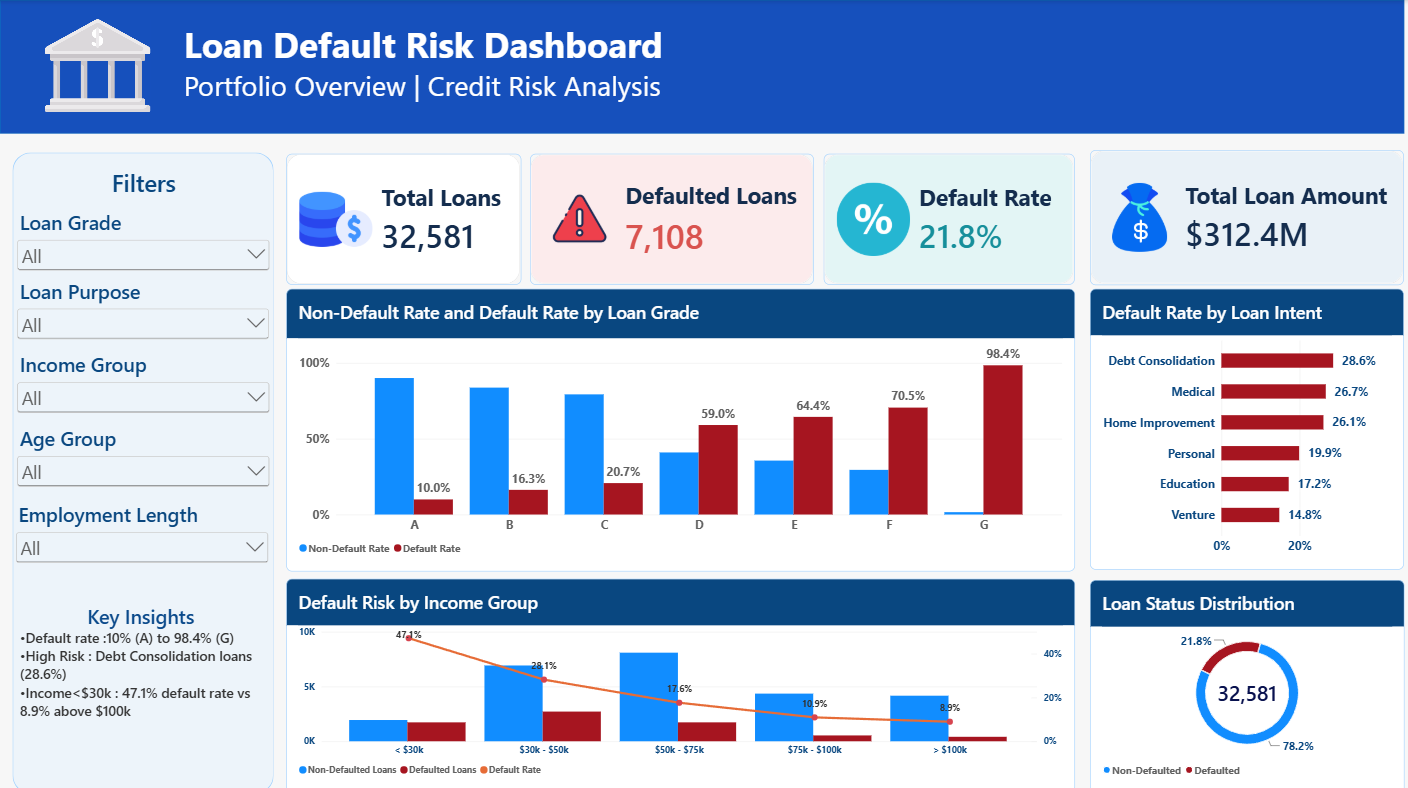

What the dashboard file says about the page in this screenshot:
{"tool":"powerbi","page":{"name":"Page 1","canvas":[1920,1080],"ordinal":0},"visuals":[{"type":"shape","box":[17,207.6,355.6,872.8],"z":0},{"type":"shape","box":[0,0,1911.4,181.8],"z":1000},{"type":"cardVisual","fields":{"Data":["credit_risk_dataset.Total Loans"]},"box":[389.6,209.3,319.9,178.6],"z":2000},{"type":"cardVisual","fields":{"Data":["credit_risk_dataset.Total Loan Amount"]},"box":[1483.6,204.2,427,183.7],"z":3000},{"type":"cardVisual","fields":{"Data":["credit_risk_dataset.Default Rate"]},"box":[1121.2,209.3,342,178.6],"z":4000},{"type":"cardVisual","fields":{"Data":["credit_risk_dataset.Defaulted Loans"]},"box":[721.4,209.3,386.2,178.6],"z":5000},{"type":"textbox","box":[250,27.3,763.6,154.5],"z":6000},{"type":"actionButton","box":[61.4,22.7,143.2,134.1],"z":7000},{"type":"clusteredColumnChart","title":"Non-Default Rate and Default Rate by Loan Grade","fields":{"Category":["credit_risk_dataset.loan_grade"],"Y":["credit_risk_dataset.Non-Default Rate","credit_risk_dataset.Default Rate"]},"box":[389.8,392.4,1073.2,384.4],"z":8000},{"type":"clusteredBarChart","title":"Default Rate by Loan Intent","fields":{"Category":["credit_risk_dataset.loan_intent"],"Y":["credit_risk_dataset.Default Rate"]},"box":[1483.6,393,427,382.8],"z":9000},{"type":"donutChart","title":"Loan Status Distribution","fields":{"Category":["credit_risk_dataset.Loan Status Label"],"Y":["credit_risk_dataset.Total Loans"]},"box":[1484.3,790.2,428,290],"z":10000},{"type":"lineClusteredColumnComboChart","title":"Default Risk by Income  Group","fields":{"Category":["credit_risk_dataset.Income Group Sort"],"Y":["credit_risk_dataset.Non-Defaulted Loans","credit_risk_dataset.Defaulted Loans"],"Y2":["credit_risk_dataset.Default Rate"]},"box":[389.6,787.7,1073.2,291],"z":11000},{"type":"slicer","fields":{"Values":["credit_risk_dataset.loan_grade"]},"box":[18.7,284.1,352.8,93.1],"z":12000},{"type":"slicer","fields":{"Values":["credit_risk_dataset.loan_intent"]},"box":[18.7,377.7,352.4,101.4],"z":13000},{"type":"slicer","fields":{"Values":["credit_risk_dataset.Income Group"]},"box":[18.7,478.1,352.8,99.6],"z":14000},{"type":"slicer","fields":{"Values":["credit_risk_dataset.Age Group"]},"box":[18.7,578.5,352.8,103.9],"z":15000},{"type":"slicer","fields":{"Values":["credit_risk_dataset.person_emp_length"]},"box":[17,682.2,352.8,108.2],"z":16000},{"type":"textbox","box":[124.2,226.3,142.9,44.2],"z":17000},{"type":"textbox","box":[17,820,353.9,212.7],"z":18000}]}

Visuals, with their boxes in screenshot pixels (x1, y1, x2, y2), scaled from the page's 1920x1080 canvas onto the 1408x788 screenshot:
shape: bbox=[12, 151, 273, 787]
shape: bbox=[0, 0, 1402, 133]
cardVisual - credit_risk_dataset.Total Loans: bbox=[286, 153, 520, 283]
cardVisual - credit_risk_dataset.Total Loan Amount: bbox=[1088, 149, 1401, 283]
cardVisual - credit_risk_dataset.Default Rate: bbox=[822, 153, 1073, 283]
cardVisual - credit_risk_dataset.Defaulted Loans: bbox=[529, 153, 812, 283]
textbox: bbox=[183, 20, 743, 133]
actionButton: bbox=[45, 17, 150, 114]
"Non-Default Rate and Default Rate by Loan Grade" clusteredColumnChart: bbox=[286, 286, 1073, 567]
"Default Rate by Loan Intent" clusteredBarChart: bbox=[1088, 287, 1401, 566]
"Loan Status Distribution" donutChart: bbox=[1088, 577, 1402, 787]
"Default Risk by Income  Group" lineClusteredColumnComboChart: bbox=[286, 575, 1073, 787]
slicer - credit_risk_dataset.loan_grade: bbox=[14, 207, 272, 275]
slicer - credit_risk_dataset.loan_intent: bbox=[14, 276, 272, 350]
slicer - credit_risk_dataset.Income Group: bbox=[14, 349, 272, 422]
slicer - credit_risk_dataset.Age Group: bbox=[14, 422, 272, 498]
slicer - credit_risk_dataset.person_emp_length: bbox=[12, 498, 271, 577]
textbox: bbox=[91, 165, 196, 197]
textbox: bbox=[12, 598, 272, 753]
